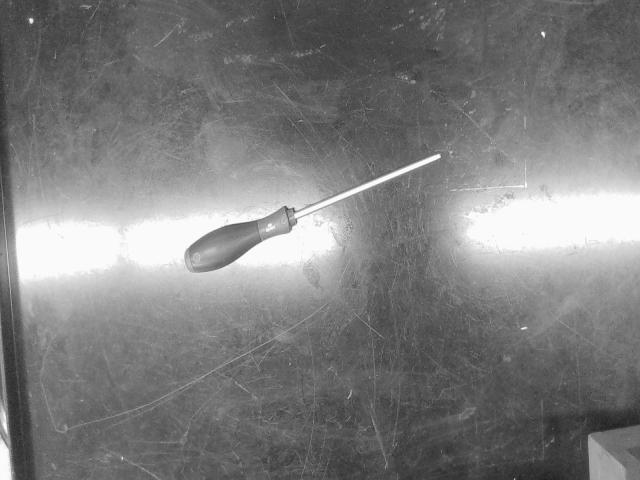Screwdriver: (184, 153, 441, 273)
